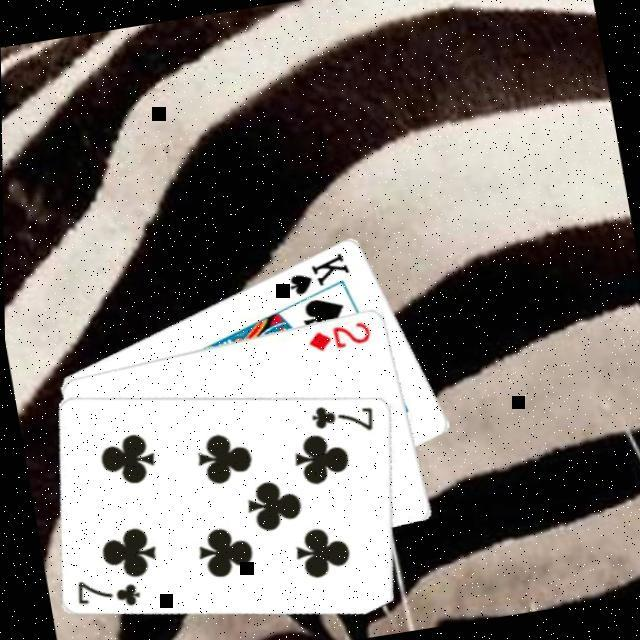2D: (300, 315, 372, 353)
7C: (66, 567, 142, 615), (303, 393, 377, 441)
KS: (278, 246, 354, 298)
